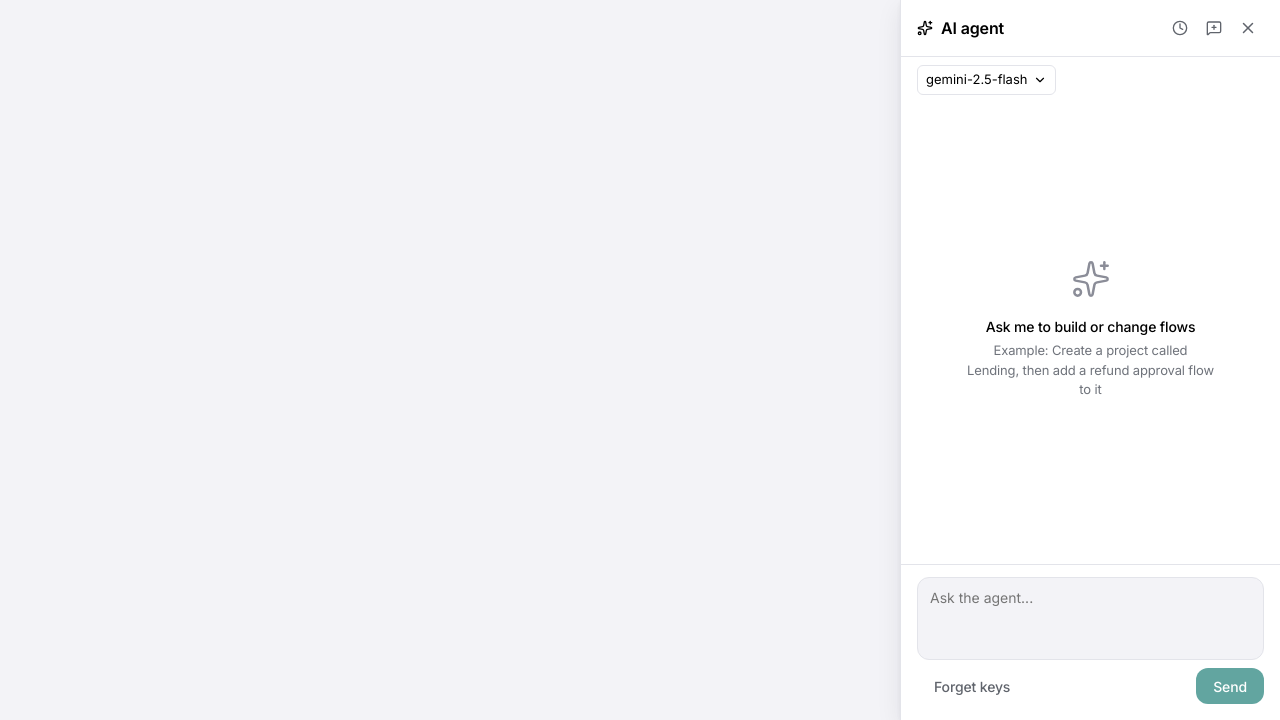
Test: AgentPanel › asks for confirmation before a destructive tool and respects Cancel
Type "delete my diagram" into the text box named "Message" at (1090, 619), box 917,577 -> 1264,660
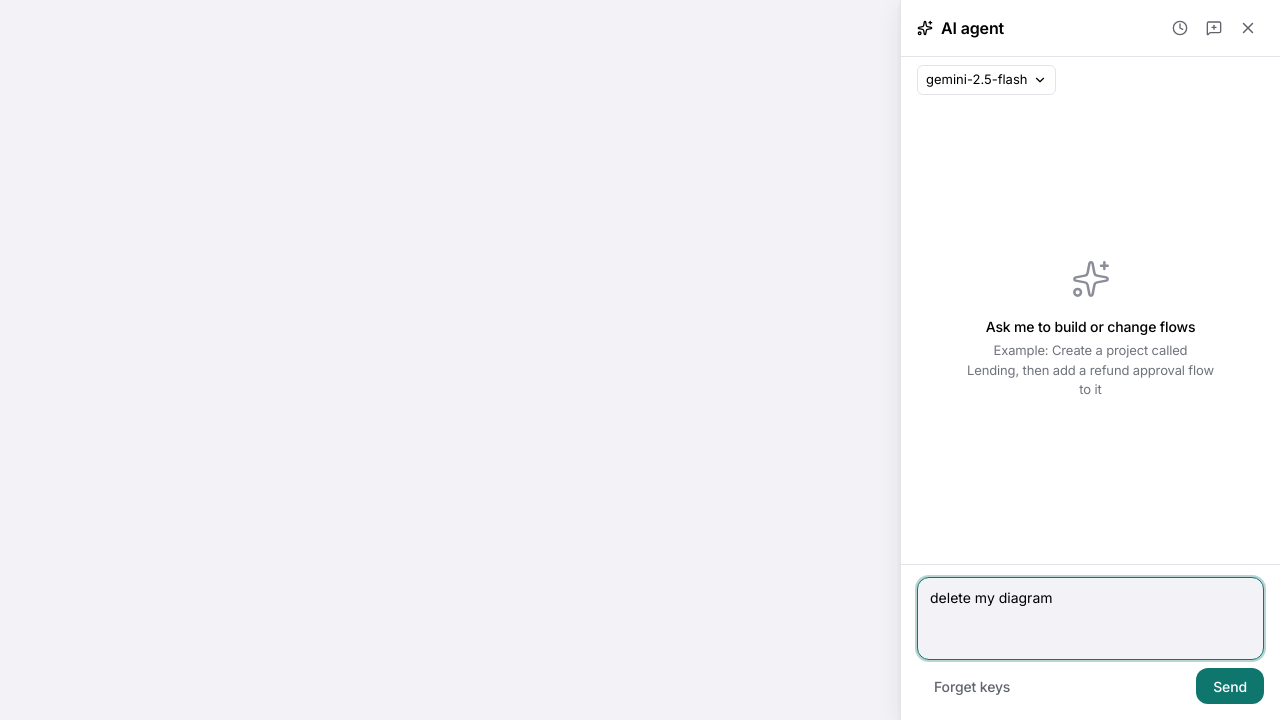
Click the button "Send" at (1230, 686), box 1196,668 -> 1264,704
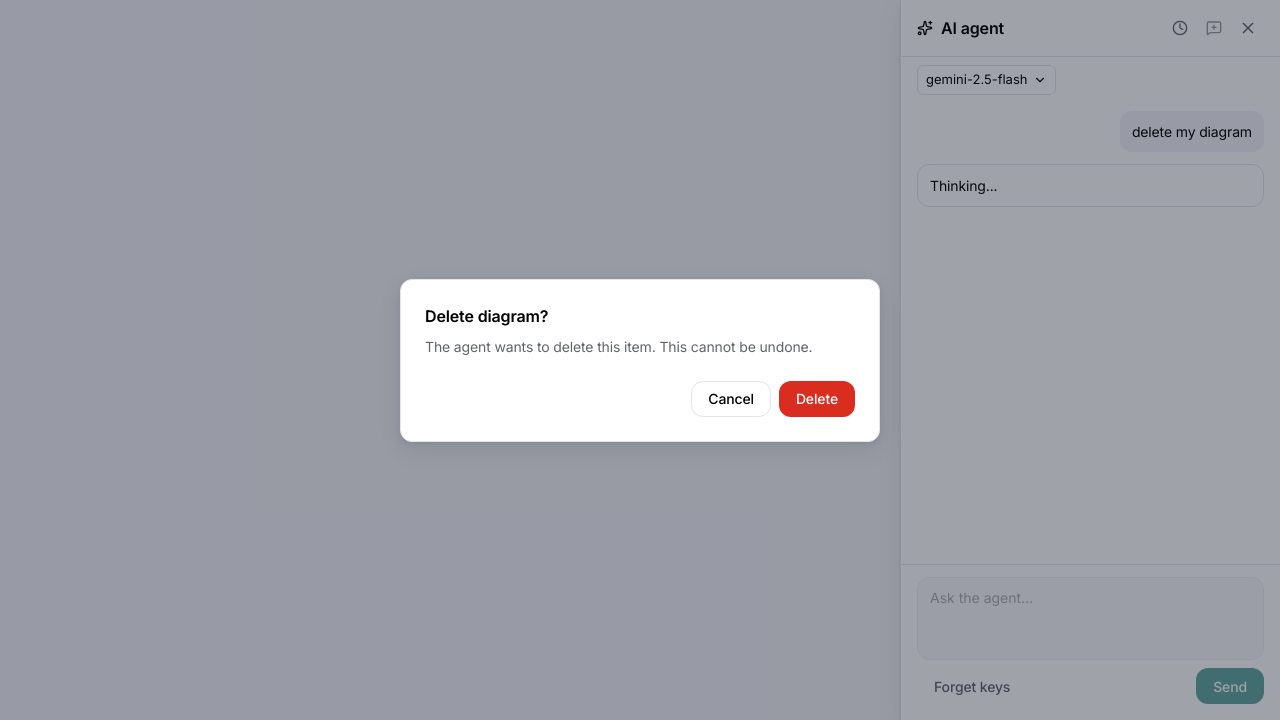
Now the text "The agent wants to delete this item. This cannot be undone." is shown, box 425,336 -> 855,356
Click the button "Cancel" at (731, 398), box 691,380 -> 771,416
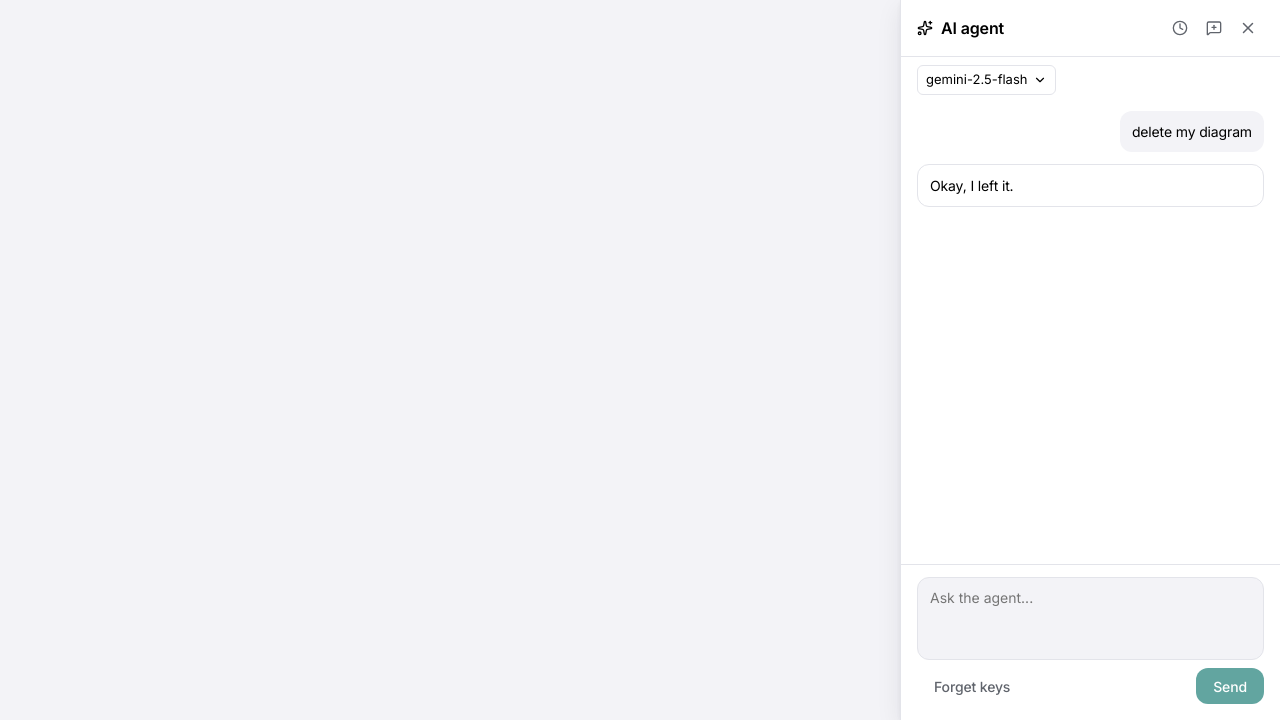
Now the text "Okay, I left it." is shown, box 917,164 -> 1264,206
Now the dialog is gone
